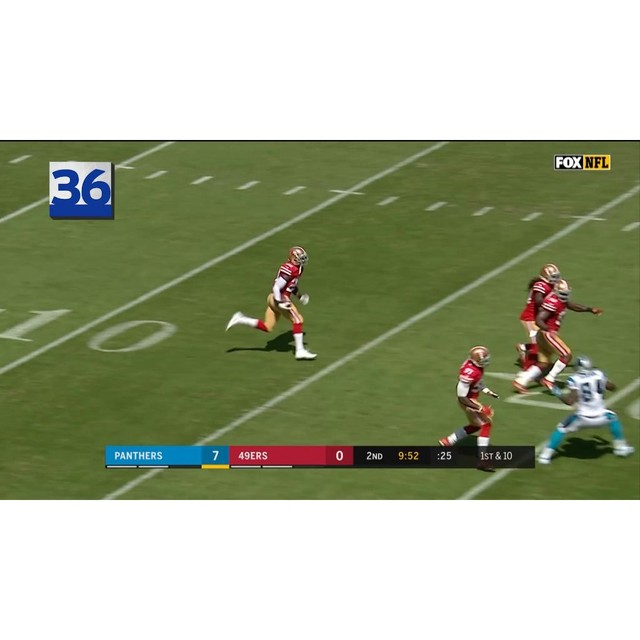american-football-player: (539, 353, 633, 464), (226, 245, 316, 360), (522, 278, 605, 395), (437, 346, 501, 451), (513, 264, 563, 372)
